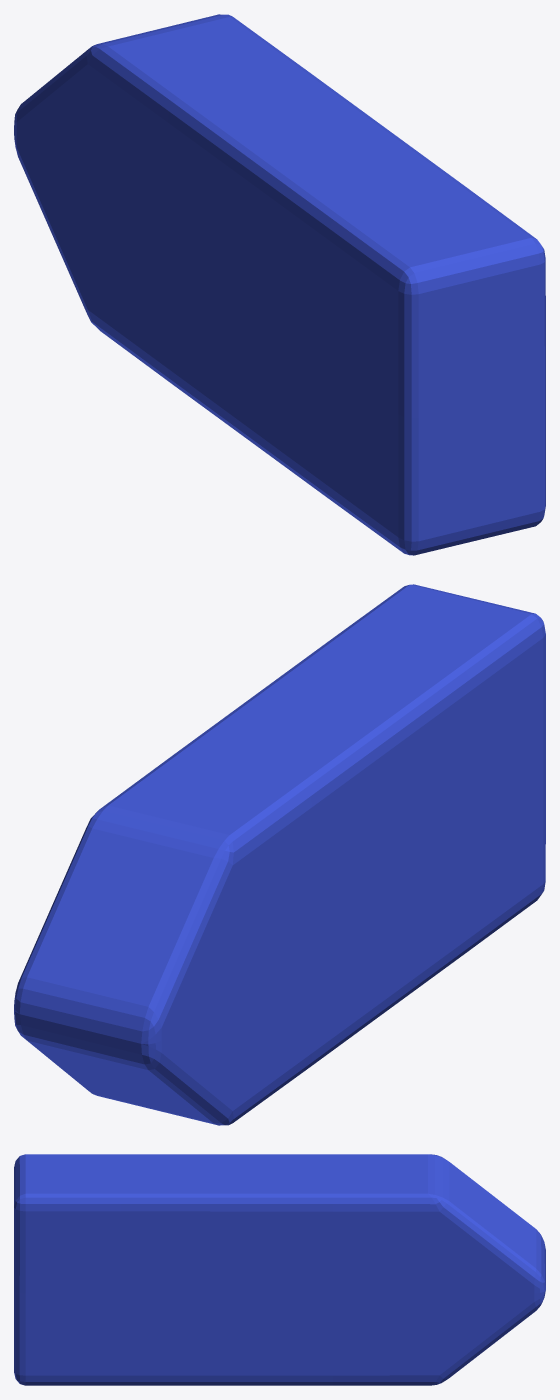
File: signpost_sign_a02.glb
The picture shows the model from 3 angles, top to bottom: view 1: azimuth 30°, elevation 25°; view 2: azimuth 150°, elevation 25°; view 3: azimuth 270°, elevation 25°; orthographic projection. The views are drawn at different scales.
Visible parts, largest first — view 1: Cube.150; view 2: Cube.150; view 3: Cube.150.
Boxes of the visible parts, x1,y1,x2,y2 form: Cube.150: (14,14,545,555); Cube.150: (14,584,545,1125); Cube.150: (14,1154,545,1385).
Size of the model in its own units: 0.5746 by 1.09 by 2.74.
